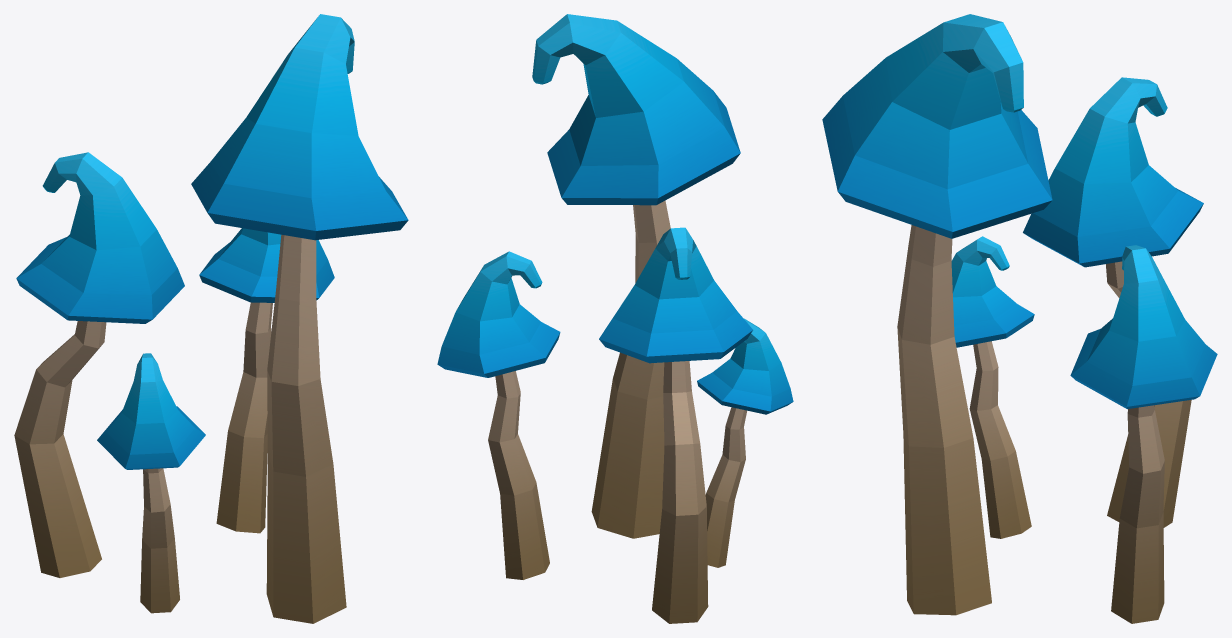
File: Mushroom_Blue_Clump_01.fbx
3 renders of one model, left to right at view 1: azimuth 30°, elevation 25°; view 2: azimuth 150°, elevation 25°; view 3: azimuth 270°, elevation 25°, orthographic. The views are drawn at different scales.
Visible parts, largest first — view 1: Mushroom_Blue_Clump_01; view 2: Mushroom_Blue_Clump_01; view 3: Mushroom_Blue_Clump_01.
Part boxes in pixels (bbox=[...]): Mushroom_Blue_Clump_01: bbox=[14, 14, 408, 623]; Mushroom_Blue_Clump_01: bbox=[437, 14, 793, 623]; Mushroom_Blue_Clump_01: bbox=[822, 14, 1217, 623].
Bounding box in the file's own units: 32.78 × 57.27 × 33.86.
